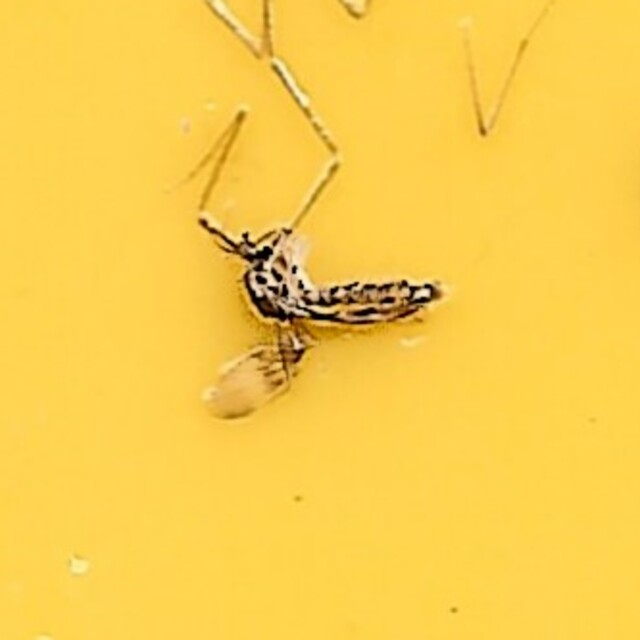Nematocera: (192, 211, 448, 429)
